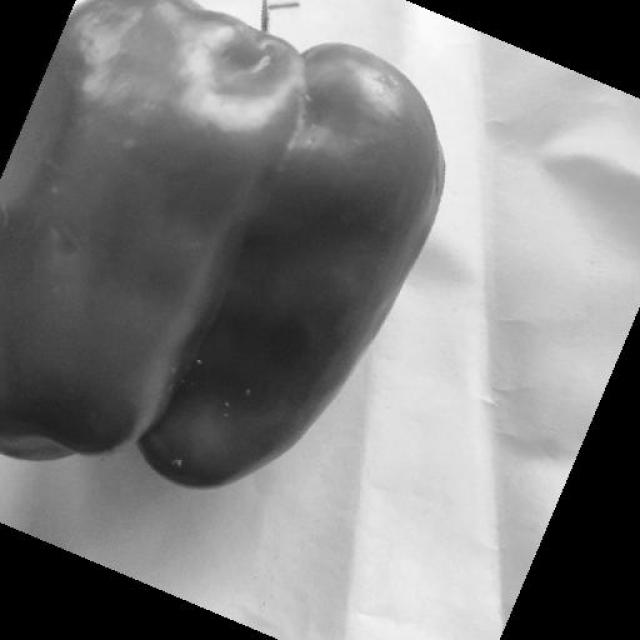Fresh_Capsicum: (52, 0, 428, 481)
